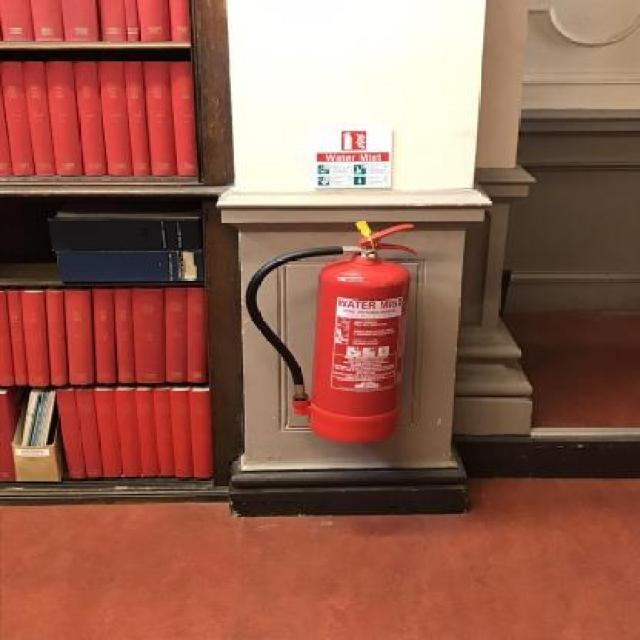fire extinguisher: (245, 223, 420, 445)
